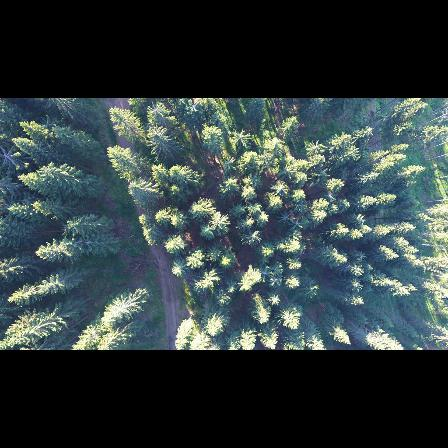Sick: (0, 144, 18, 168), (278, 210, 293, 225)
